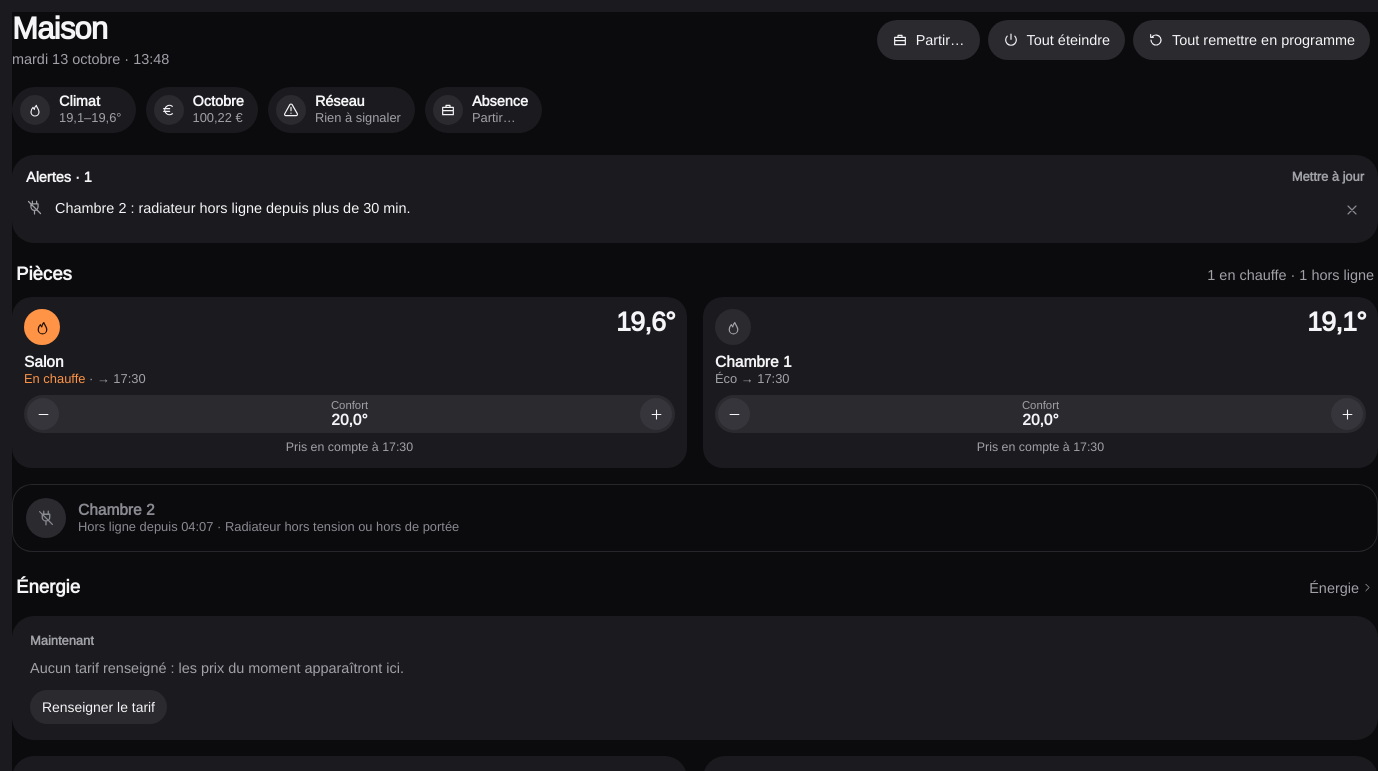
Test: Maison on the phone › an alert the server raises or resolves after the first frame moves nothing until the owner asks (CLS)
Expected: the heading "Alertes · 1" is shown, left=26, top=167, right=92, bottom=187
Expected: the button "Masquer tout" is not shown
Click the button with aria-label "Mettre à jour les alertes" at (1328, 177), box left=1292, top=168, right=1364, bottom=186
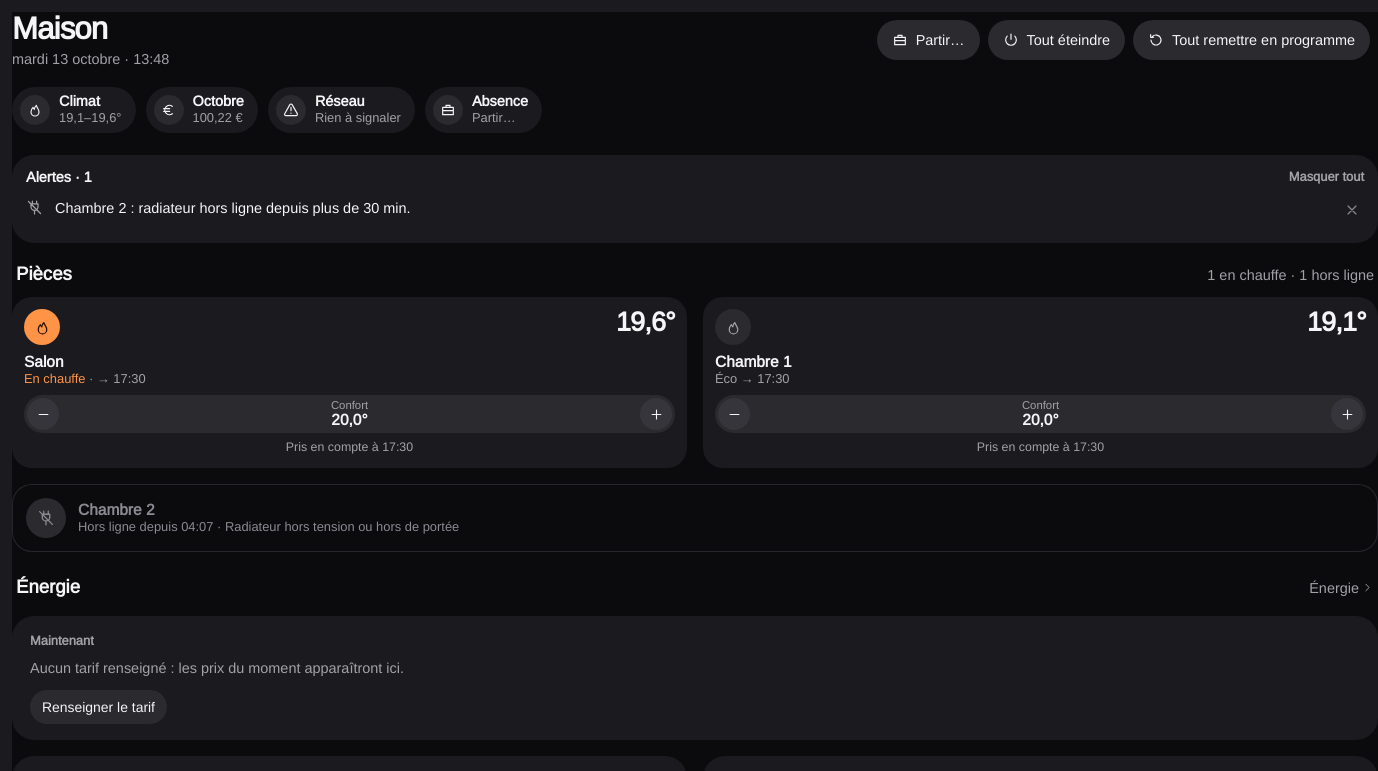
Expected: the heading "Alertes · 1" is shown, left=26, top=167, right=92, bottom=187
Now the button "Masquer tout" is shown, box left=1289, top=168, right=1364, bottom=186
